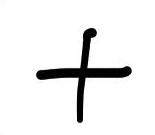plus: (37, 28, 131, 123)
